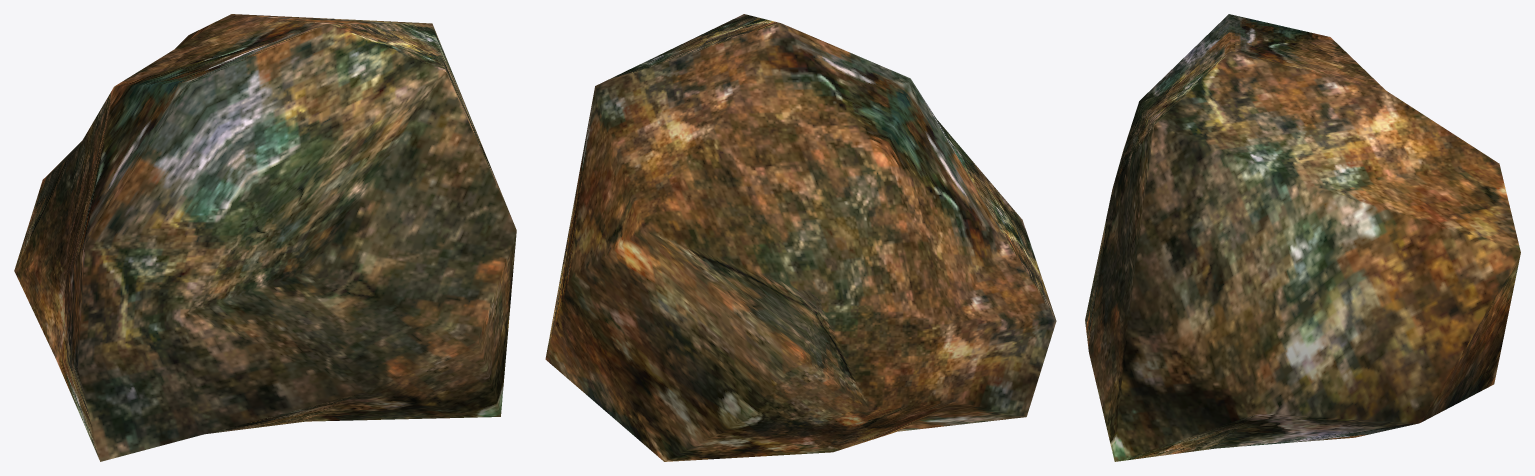
File: c_stone13.glb
3 renders of one model, left to right at view 1: azimuth 30°, elevation 25°; view 2: azimuth 150°, elevation 25°; view 3: azimuth 270°, elevation 25°, orthographic. The views are drawn at different scales.
Visible parts, largest first — view 1: c_stone13; view 2: c_stone13; view 3: c_stone13.
Part boxes in pixels (left/top/right/bottom): c_stone13: left=14, top=14, right=516, bottom=461; c_stone13: left=545, top=14, right=1056, bottom=461; c_stone13: left=1085, top=14, right=1520, bottom=461.
Bounding box in the file's own units: 0.156 × 0.1292 × 0.1326.
1 material, 1 textured.
